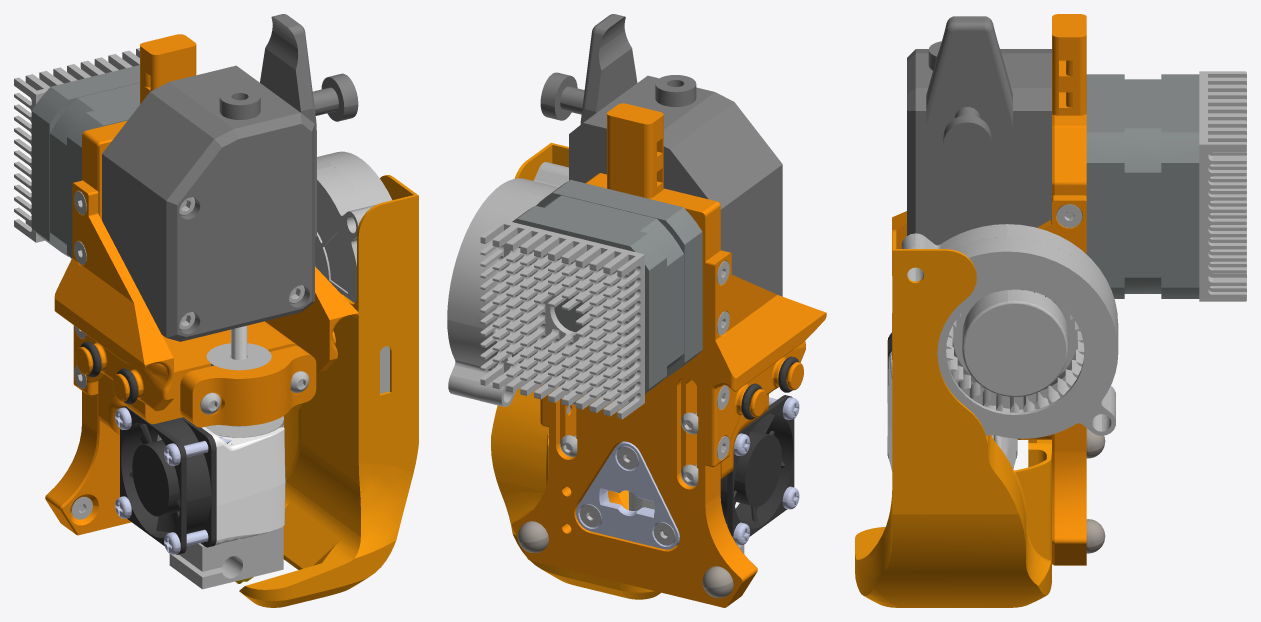
The model's file is extruder-toolhead.glb.
3 views of the same model, side by side, from view 1: azimuth 30°, elevation 25°; view 2: azimuth 150°, elevation 25°; view 3: azimuth 270°, elevation 25° (orthographic). The views are drawn at different scales.
Visible parts, largest first — view 1: bondtech_bmg_simplified Body 1, COOLING-NOZZLE-edthesped, tool_wings_Left BMG Extruder Tool Wing, LDO-42STH25-1404MAC, bondtech_direct_drive_extruder_base_tool_plate_tool plate, bondtech_bmg_simplified Body 2, v6_hotend_fan_with_shroud Body 3, groovemount_clip_groovemount_clip, v6_hotend_fan_with_shroud Body 1, Radial-Cooling-Fan-5015-DC12V Body 3, groovemount_clip_groovemount_base, v6_heater_block (+8 smaller); view 2: bondtech_direct_drive_extruder_base_tool_plate_tool plate, nema_17_heatsink_40x40x11, bondtech_bmg_simplified Body 1, LDO-42STH25-1404MAC, tool_wings_Left BMG Extruder Tool Wing, bondtech_bmg_simplified Body 2, COOLING-NOZZLE-edthesped, Radial-Cooling-Fan-5015-DC12V Body 2, wedge_plate, v6_hotend_fan_with_shroud Body 1, v6_hotend_fan_with_shroud Body 2, Radial-Cooling-Fan-5015-DC12V Body 3 (+2 smaller); view 3: COOLING-NOZZLE-edthesped, bondtech_bmg_simplified Body 1, LDO-42STH25-1404MAC, Radial-Cooling-Fan-5015-DC12V Body 2, Radial-Cooling-Fan-5015-DC12V Body 1, bondtech_direct_drive_extruder_base_tool_plate_tool plate, nema_17_heatsink_40x40x11, Radial-Cooling-Fan-5015-DC12V Body 3, bondtech_bmg_simplified Body 2, tool_wings_Right BMG Extruder Configuration, v6_hotend_fan_with_shroud Body 3, m3_8mm_threaded_ball.
Part boxes in pixels (x1,y1,x2,y2): bondtech_bmg_simplified Body 1: [102, 14, 358, 341]; COOLING-NOZZLE-edthesped: [239, 175, 418, 607]; tool_wings_Left BMG Extruder Tool Wing: [54, 180, 173, 411]; LDO-42STH25-1404MAC: [31, 65, 139, 258]; bondtech_direct_drive_extruder_base_tool_plate_tool plate: [45, 34, 196, 535]; bondtech_bmg_simplified Body 2: [103, 66, 297, 337]; v6_hotend_fan_with_shroud Body 3: [157, 427, 285, 546]; groovemount_clip_groovemount_clip: [180, 346, 316, 427]; v6_hotend_fan_with_shroud Body 1: [120, 406, 216, 554]; Radial-Cooling-Fan-5015-DC12V Body 3: [315, 159, 385, 393]; groovemount_clip_groovemount_base: [98, 321, 298, 434]; v6_heater_block: [169, 526, 283, 589]; bondtech_direct_drive_extruder_base_tool_plate_tool plate: [511, 103, 757, 607]; nema_17_heatsink_40x40x11: [480, 220, 644, 419]; bondtech_bmg_simplified Body 1: [540, 14, 782, 296]; LDO-42STH25-1404MAC: [511, 179, 702, 403]; tool_wings_Left BMG Extruder Tool Wing: [705, 250, 826, 467]; bondtech_bmg_simplified Body 2: [624, 76, 782, 295]; COOLING-NOZZLE-edthesped: [491, 142, 660, 599]; Radial-Cooling-Fan-5015-DC12V Body 2: [447, 162, 568, 400]; wedge_plate: [576, 441, 679, 549]; v6_hotend_fan_with_shroud Body 1: [720, 395, 794, 545]; v6_hotend_fan_with_shroud Body 2: [734, 413, 784, 521]; Radial-Cooling-Fan-5015-DC12V Body 3: [475, 173, 568, 406]; COOLING-NOZZLE-edthesped: [855, 229, 1051, 607]; bondtech_bmg_simplified Body 1: [907, 16, 1051, 245]; LDO-42STH25-1404MAC: [1086, 74, 1199, 298]; Radial-Cooling-Fan-5015-DC12V Body 2: [907, 237, 1118, 438]; Radial-Cooling-Fan-5015-DC12V Body 1: [946, 289, 1084, 412]; bondtech_direct_drive_extruder_base_tool_plate_tool plate: [1052, 14, 1086, 565]; nema_17_heatsink_40x40x11: [1199, 71, 1246, 301]; Radial-Cooling-Fan-5015-DC12V Body 3: [901, 224, 1118, 419]; bondtech_bmg_simplified Body 2: [915, 49, 1049, 226]; tool_wings_Right BMG Extruder Configuration: [892, 195, 1086, 359]; v6_hotend_fan_with_shroud Body 3: [887, 351, 1016, 471]; m3_8mm_threaded_ball: [1086, 519, 1105, 553].
Bounding box in the file's own units: 79.74 × 147 × 90.5.
